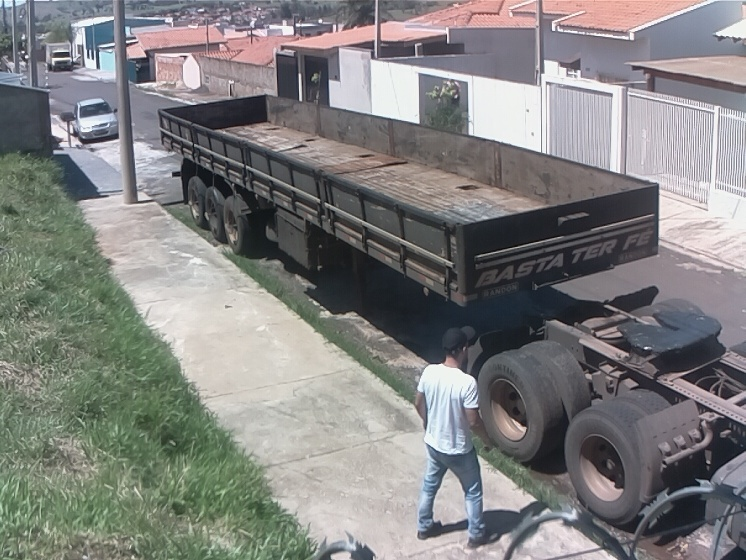person: (412, 327, 508, 551)
